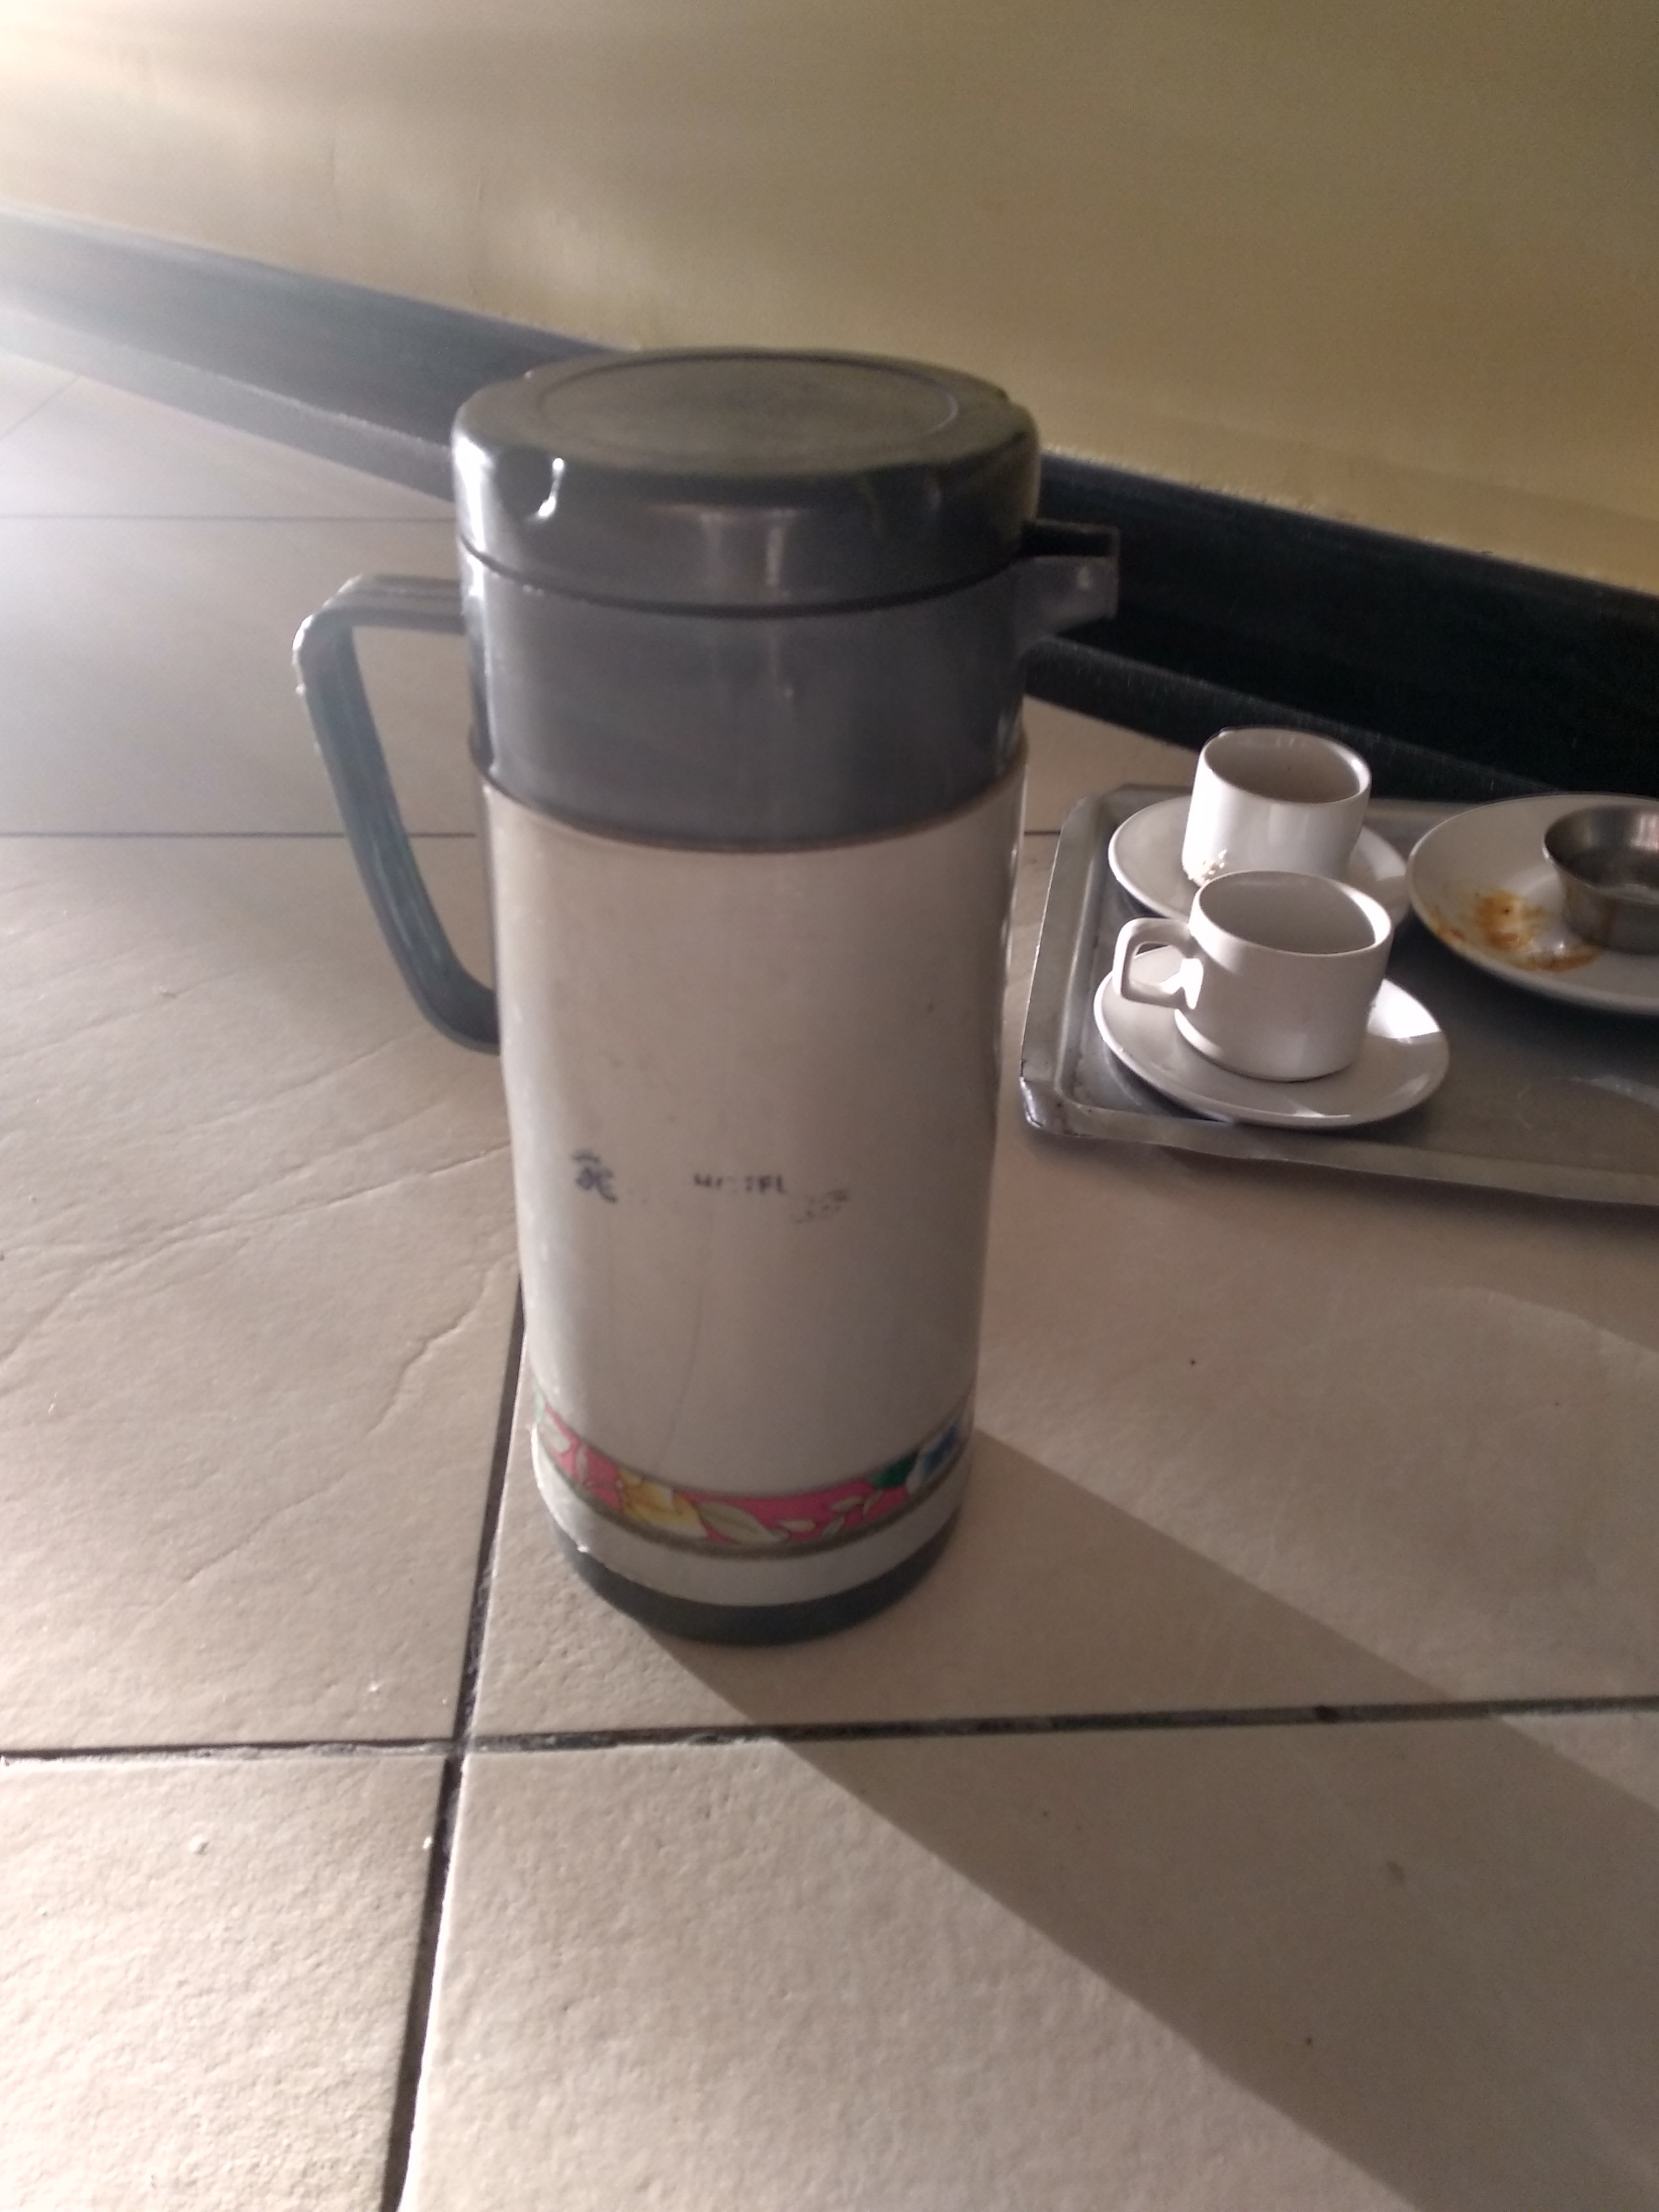CUP: (1131, 867, 1410, 1118), (1169, 714, 1378, 921)
JUG: (282, 317, 1136, 1702)
